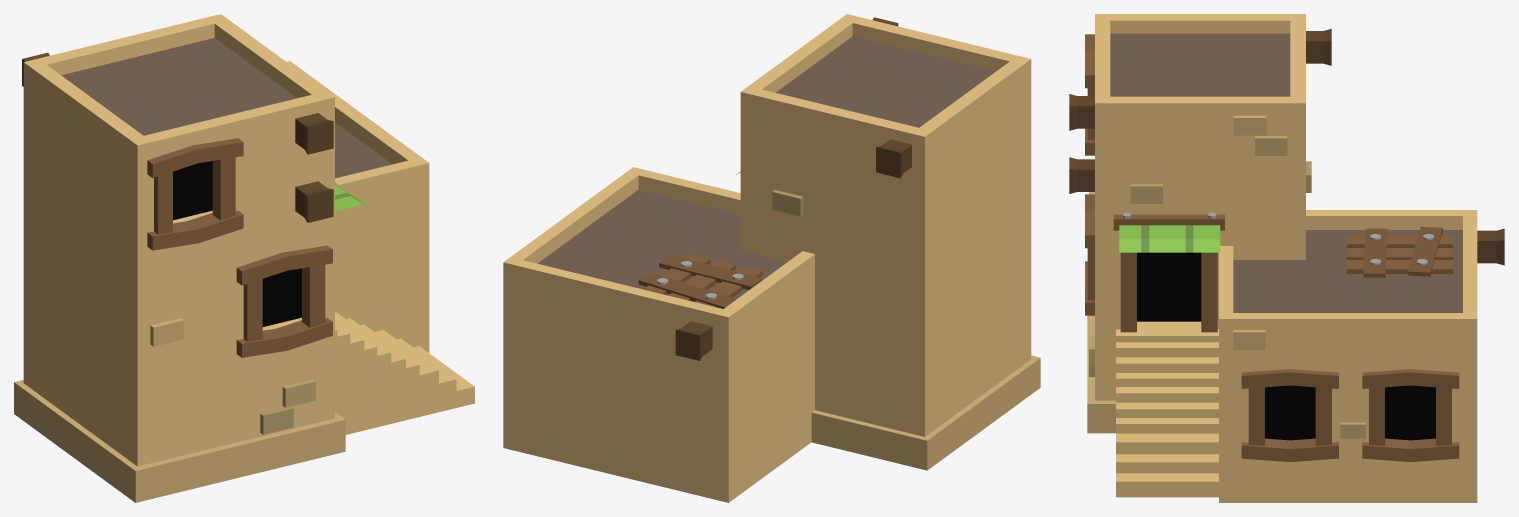
File: DesertHouse_1.fbx
3 views of the same model, side by side, from view 1: azimuth 30°, elevation 25°; view 2: azimuth 150°, elevation 25°; view 3: azimuth 270°, elevation 25° (orthographic). The views are drawn at different scales.
Parts seen in each view (by area): view 1: Cube.001, Cube, Cube.035, Cube.002, Cube.014, Cube.012, Cube.013, Cube.011, Cube.023, Cube.025, Cube.007, Cube.008 (+5 smaller); view 2: Cube.001, Cube, Cube.035, Cube.146, Cube.005, Cube.006, Cube.034; view 3: Cube, Cube.001, Cube.002, Cube.146, Plane, Cube.009, Cube.010, Cube.004, Cube.003, Cube.035, Cube.019, Cube.020 (+15 smaller).
Boxes of the visible parts, x1=… form: Cube.001: x1=23, y1=14, x2=334, y2=466; Cube: x1=287, y1=61, x2=429, y2=352; Cube.035: x1=14, y1=380, x2=345, y2=502; Cube.002: x1=335, y1=312, x2=474, y2=434; Cube.014: x1=236, y1=318, x2=332, y2=357; Cube.012: x1=147, y1=210, x2=243, y2=250; Cube.013: x1=236, y1=245, x2=332, y2=285; Cube.011: x1=147, y1=138, x2=243, y2=177; Cube.023: x1=212, y1=157, x2=235, y2=220; Cube.025: x1=302, y1=264, x2=325, y2=327; Cube.007: x1=295, y1=113, x2=333, y2=154; Cube.008: x1=295, y1=181, x2=333, y2=222; Cube.001: x1=740, y1=14, x2=1031, y2=436; Cube: x1=503, y1=167, x2=814, y2=502; Cube.035: x1=811, y1=355, x2=1040, y2=470; Cube.146: x1=638, y1=254, x2=762, y2=308; Cube.005: x1=675, y1=321, x2=712, y2=360; Cube.006: x1=876, y1=139, x2=911, y2=178; Cube.034: x1=772, y1=190, x2=803, y2=216; Cube: x1=1219, y1=210, x2=1477, y2=502; Cube.001: x1=1095, y1=14, x2=1305, y2=400; Cube.002: x1=1116, y1=329, x2=1218, y2=497; Cube.146: x1=1346, y1=226, x2=1453, y2=277; Plane: x1=1119, y1=225, x2=1220, y2=252; Cube.009: x1=1362, y1=438, x2=1459, y2=461; Cube.010: x1=1241, y1=438, x2=1338, y2=461; Cube.004: x1=1362, y1=369, x2=1459, y2=388; Cube.003: x1=1241, y1=369, x2=1338, y2=388; Cube.035: x1=1087, y1=315, x2=1115, y2=433; Cube.019: x1=1201, y1=252, x2=1217, y2=332; Cube.020: x1=1120, y1=252, x2=1136, y2=332.
Size of the model in its own units: 309 by 280 by 338.
